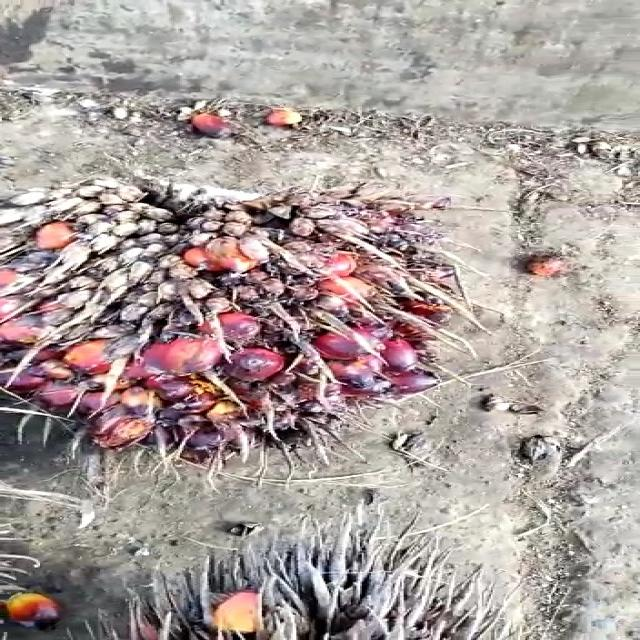palm oil: (0, 170, 481, 481)
